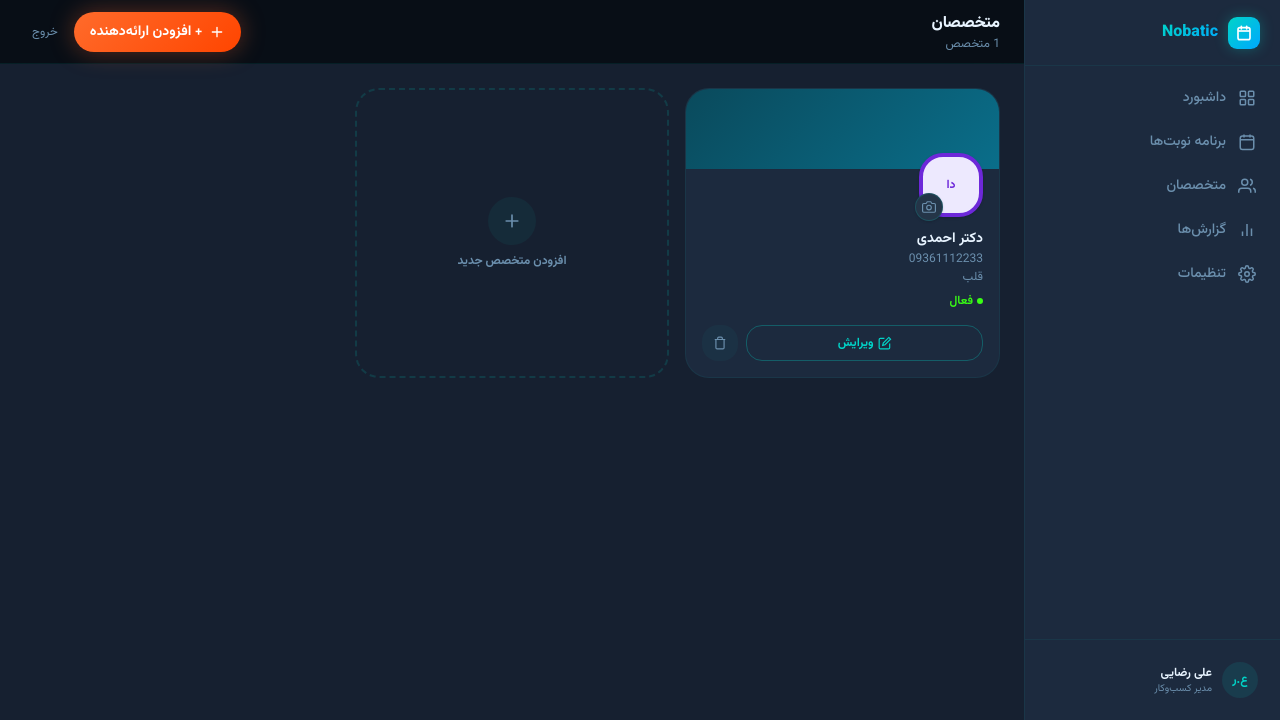
Scenario: ProvidersPage — add form validation › closes modal on × button
Click the button "+ افزودن ارائه‌دهنده" at (157, 32), box [74, 12, 241, 52]
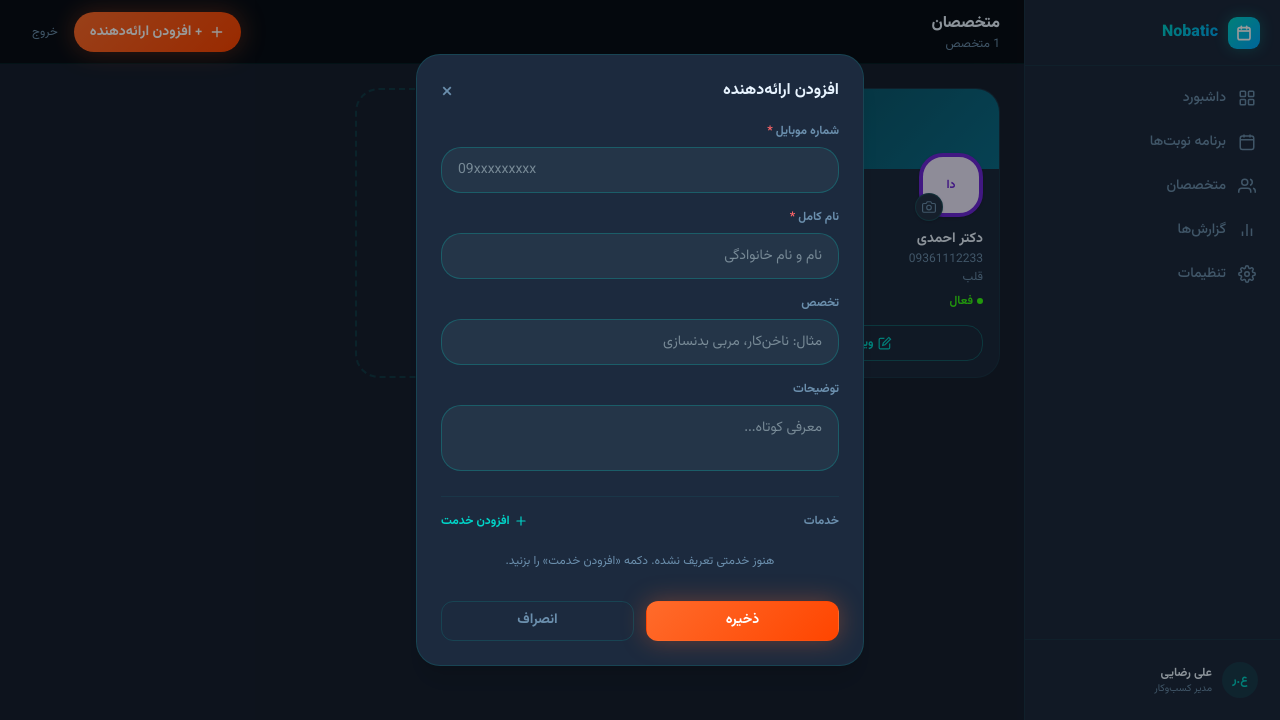
Click the button named "بستن" at (447, 91), box [441, 79, 453, 103]
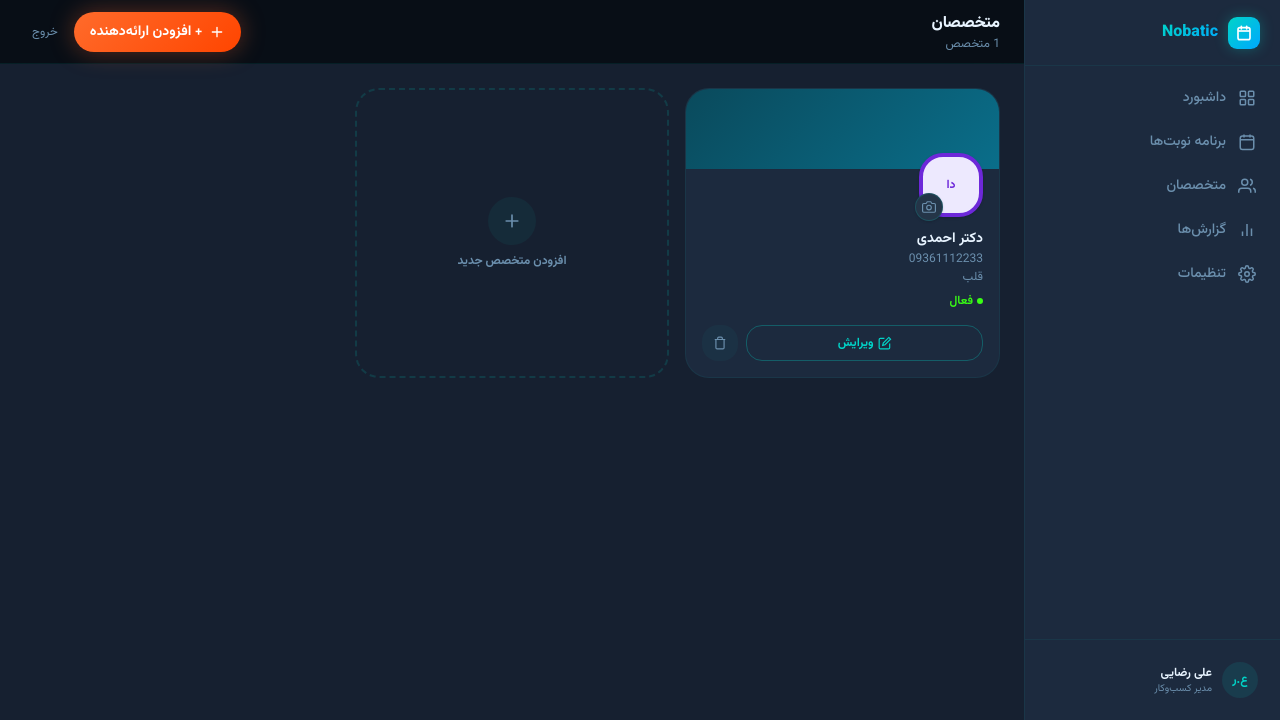
expect the dialog is gone: met
